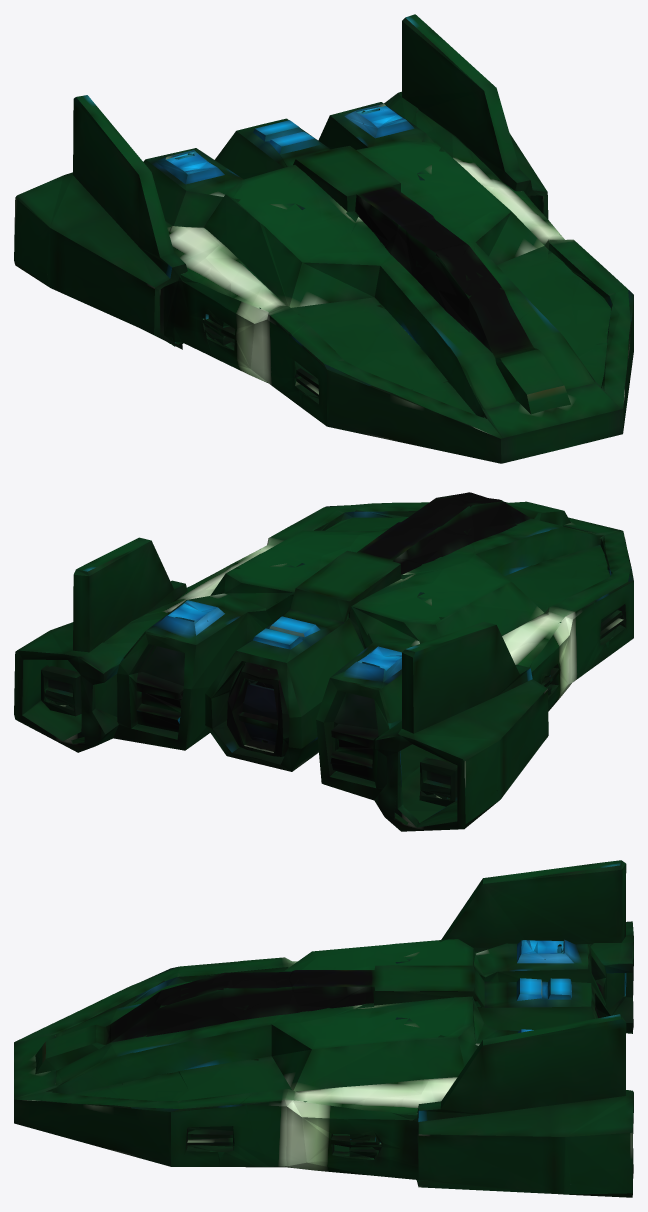
3 renders of one model, top to bottom at view 1: azimuth 30°, elevation 25°; view 2: azimuth 150°, elevation 25°; view 3: azimuth 270°, elevation 25°, orthographic. The views are drawn at different scales.
Parts seen in each view (by area): view 1: world; view 2: world; view 3: world.
Boxes of the visible parts, <box> form: world: <box>14,14,633,463</box>; world: <box>14,492,633,831</box>; world: <box>14,860,633,1197</box>.
Bounding box in the file's own units: 0.8096 × 0.3032 × 1.
1 material, 1 textured.
